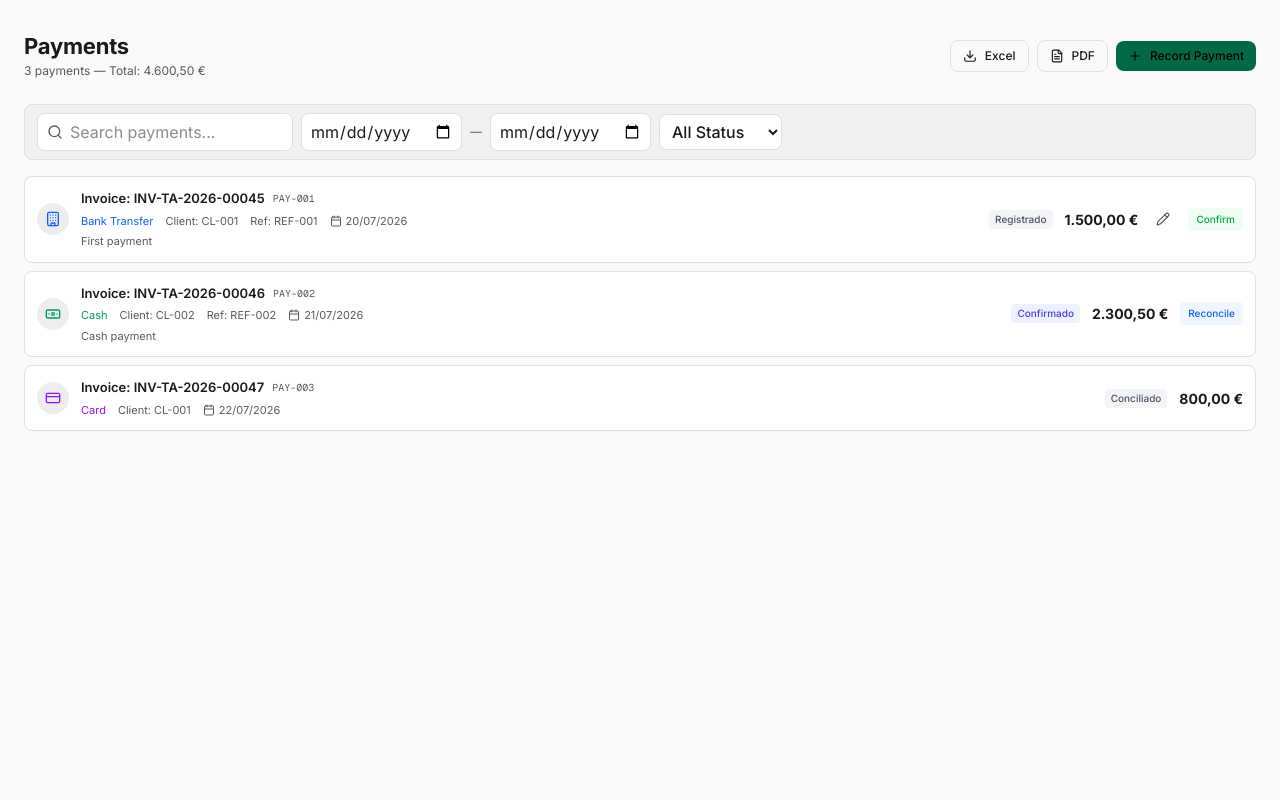
Test: PaymentsScreen › shows cash tracking fields when method is cash
Expected: the text "Invoice: INV-TA-2026-00045" is shown, [81, 189, 265, 208]
Click the button "Record Payment" at (1186, 56), box [1116, 41, 1256, 71]
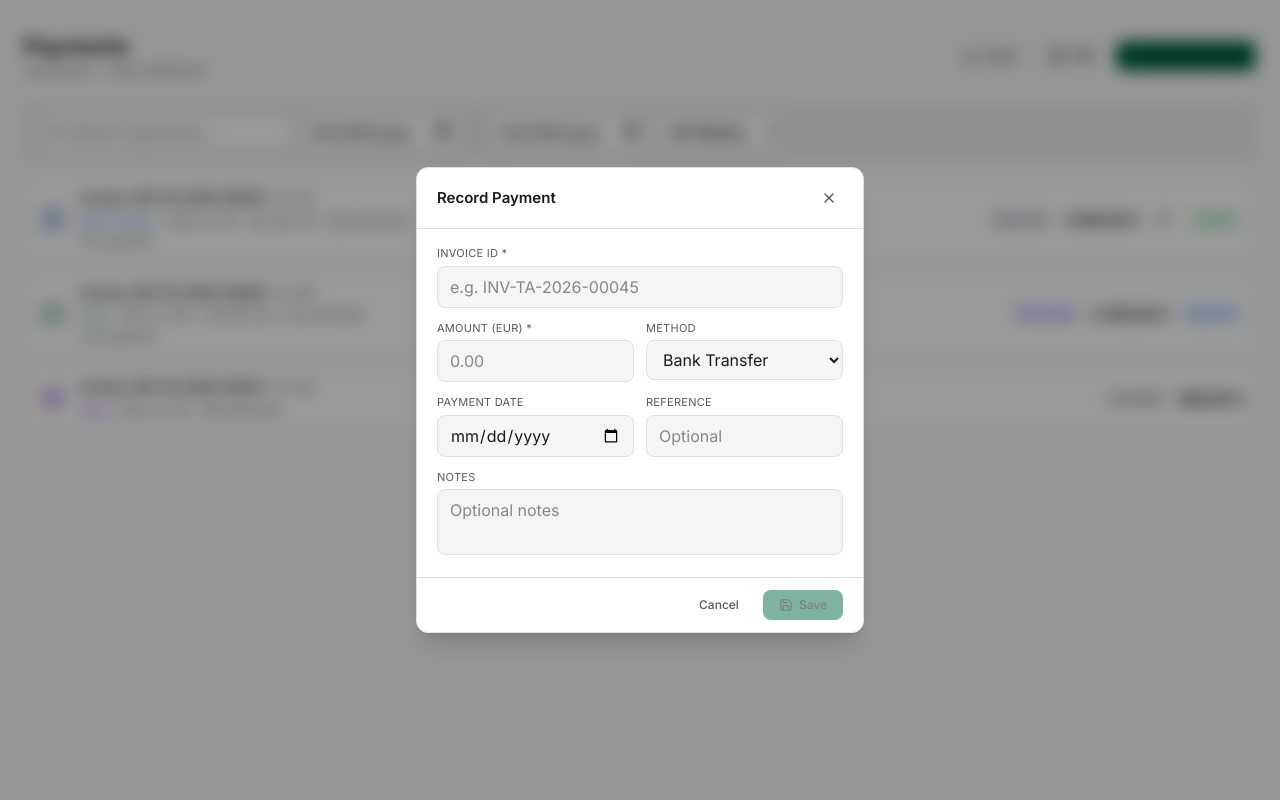
Expected: the text "Record Payment" is shown 2 times, [1150, 47, 1244, 65]; [437, 187, 556, 209]
# Select cash method
Select "Cash" in the dropdown at (744, 360), box [646, 340, 843, 380]
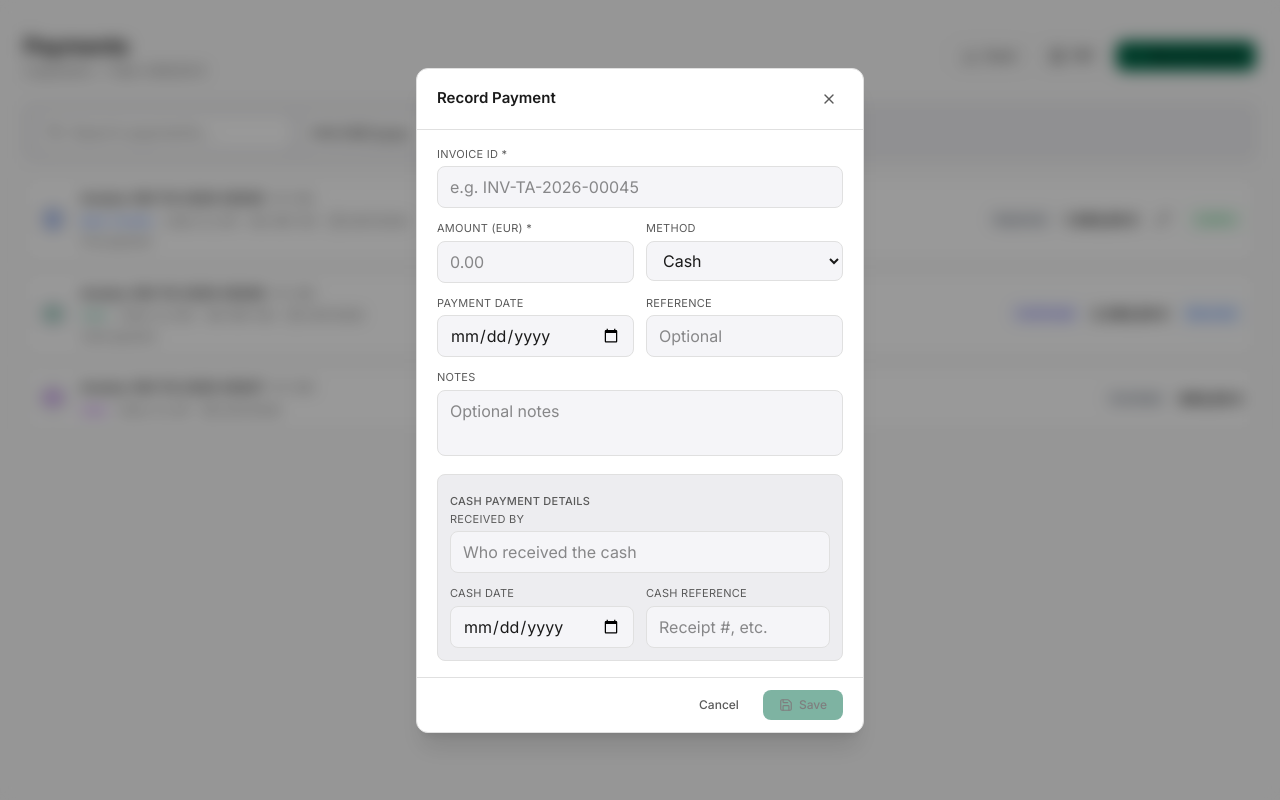
Now the text "Received By" is shown, box [450, 512, 524, 526]
Now the text "Cash Date" is shown, box [450, 586, 514, 600]
Now the text "Cash Reference" is shown, box [646, 586, 747, 600]
